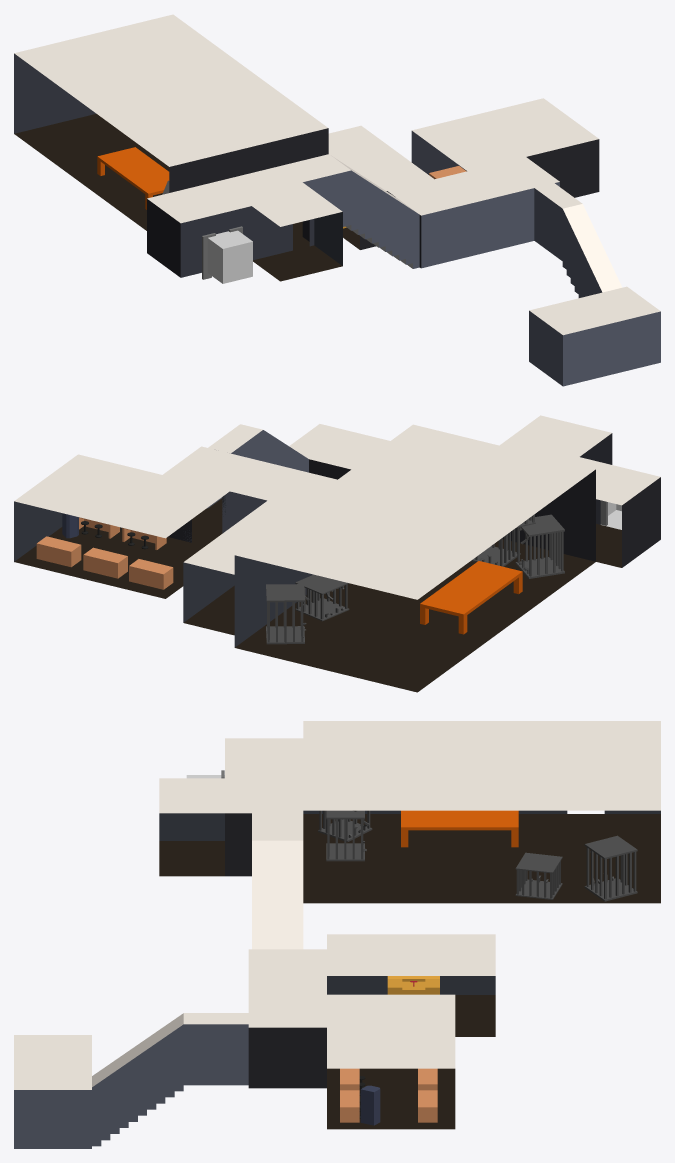
The model's file is Static Scene.fbx.
3 views of the same model, one above another, from view 1: azimuth 30°, elevation 25°; view 2: azimuth 150°, elevation 25°; view 3: azimuth 270°, elevation 25° (orthographic). The views are drawn at different scales.
Visible parts, largest first — view 1: Liz Room, Meeting Room, Hallway1, Spawn Room, Hallway2, Staircase1, Puz Room, Staircase0, Operating Room, Cube.018, Elevator; view 2: Liz Room, Meeting Room, Hallway1, Hallway2, Operating Room, Cube.018, Spawn Room, Puz Room, Staircase0, Cube.020, Cube.022, Cube.025 (+4 smaller); view 3: Liz Room, Meeting Room, Staircase0, Hallway1, Operating Room, Spawn Room, Hallway2, Staircase1, Puz Room, Cube.018, Cube.022, Cube.025 (+6 smaller).
Part boxes in pixels (x1,y1,x2,y2): Liz Room: (14,14,328,230); Meeting Room: (411,98,599,197); Hallway1: (387,157,559,268); Spawn Room: (529,286,660,386); Hallway2: (147,166,314,277); Staircase1: (281,154,419,268); Puz Room: (251,191,342,281); Staircase0: (534,183,622,297); Operating Room: (328,125,433,249); Cube.018: (97,147,169,209); Elevator: (207,230,252,283); Liz Room: (234,424,595,692); Meeting Room: (14,454,229,598); Hallway1: (163,446,337,545); Hallway2: (499,439,660,567); Operating Room: (183,500,298,635); Cube.018: (420,561,522,634); Spawn Room: (289,424,389,479); Puz Room: (508,415,612,464); Staircase0: (207,424,308,511); Cube.020: (515,514,564,578); Cube.022: (266,584,309,644); Cube.025: (295,574,349,621); Liz Room: (303,721,660,903); Meeting Room: (327,994,455,1129); Staircase0: (92,1013,248,1146); Hallway1: (248,949,326,1088); Operating Room: (327,934,495,1036); Spawn Room: (14,1035,91,1148); Hallway2: (225,738,303,876); Staircase1: (252,813,303,949); Puz Room: (159,778,224,876); Cube.018: (401,810,518,847); Cube.022: (584,835,637,901); Cube.025: (515,852,562,899).
Bounding box in the file's own units: 4724 × 1889 × 4967.
